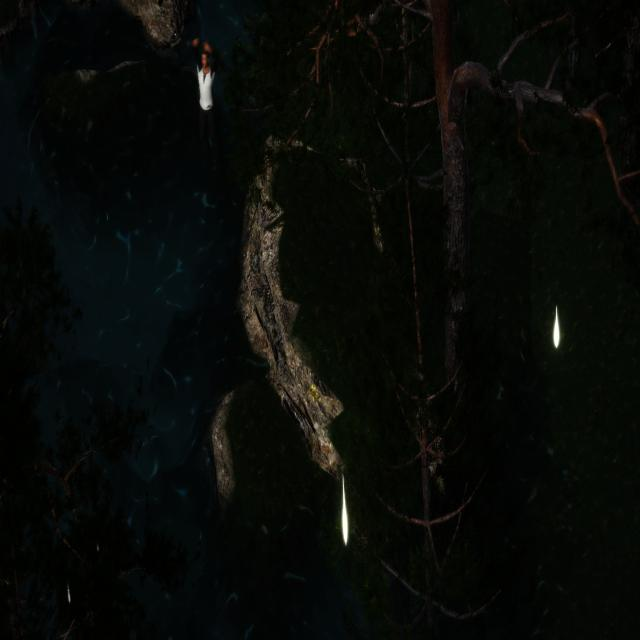Human: (188, 25, 228, 169)
